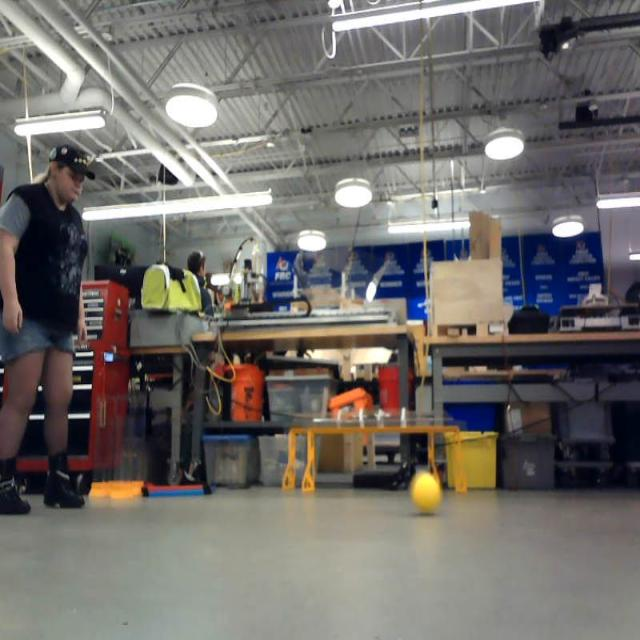Fuel: (413, 474, 442, 514)
